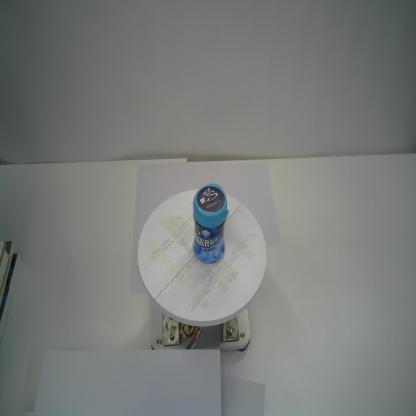Gum: (192, 183, 230, 265)
